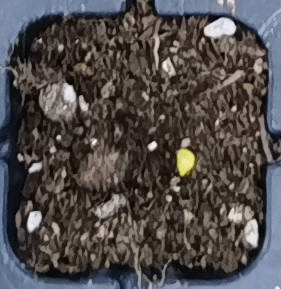pepper seed: (76, 59, 272, 236)
